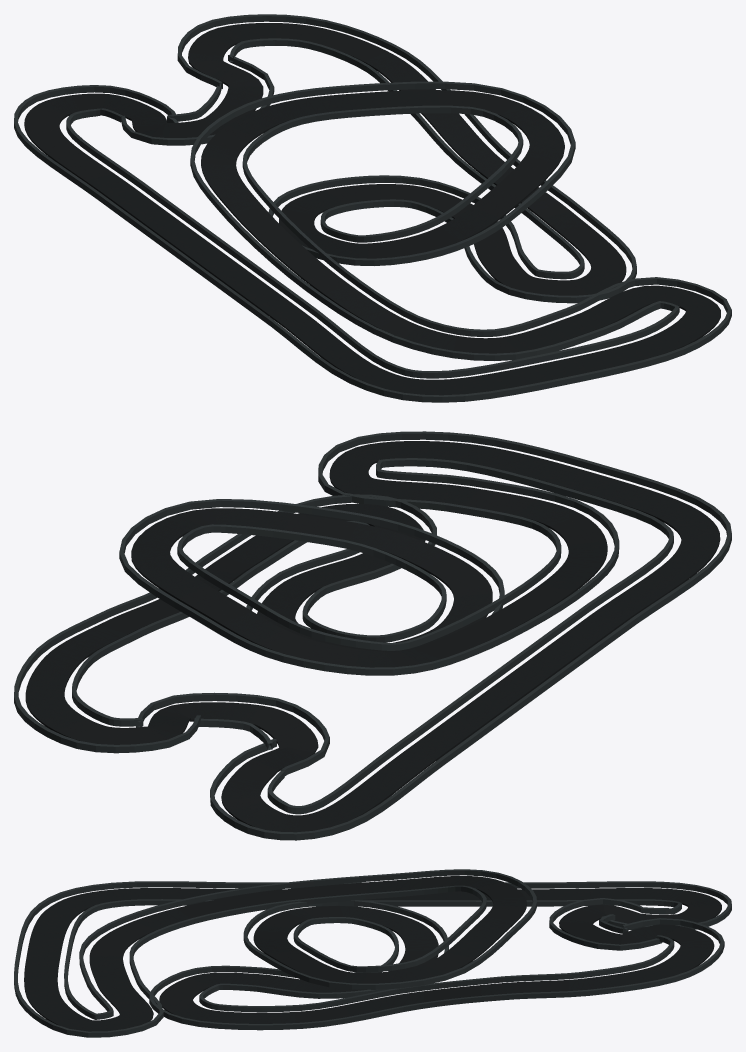
File: Alpine_Circuit_Collision.glb
3 views of the same model, one above another, from view 1: azimuth 30°, elevation 25°; view 2: azimuth 150°, elevation 25°; view 3: azimuth 270°, elevation 25° (orthographic). The views are drawn at different scales.
Parts seen in each view (by area): view 1: COLLISION_Track, COLLISION_Barriers_1, COLLISION_Barriers_-1; view 2: COLLISION_Track, COLLISION_Barriers_1, COLLISION_Barriers_-1; view 3: COLLISION_Track, COLLISION_Barriers_-1, COLLISION_Barriers_1.
Part boxes in pixels (left/top/right/bottom): COLLISION_Track: left=24, top=23, right=720, bottom=395; COLLISION_Barriers_1: left=14, top=14, right=731, bottom=402; COLLISION_Barriers_-1: left=66, top=38, right=679, bottom=378; COLLISION_Track: left=25, top=441, right=720, bottom=832; COLLISION_Barriers_1: left=14, top=431, right=731, bottom=840; COLLISION_Barriers_-1: left=72, top=458, right=673, bottom=814; COLLISION_Track: left=24, top=876, right=721, bottom=1031; COLLISION_Barriers_-1: left=64, top=869, right=681, bottom=1019; COLLISION_Barriers_1: left=14, top=881, right=731, bottom=1037.
Size of the model in its own units: 3.38 by 0.5893 by 6.7.
Materials: 2 (1 with a texture image).
